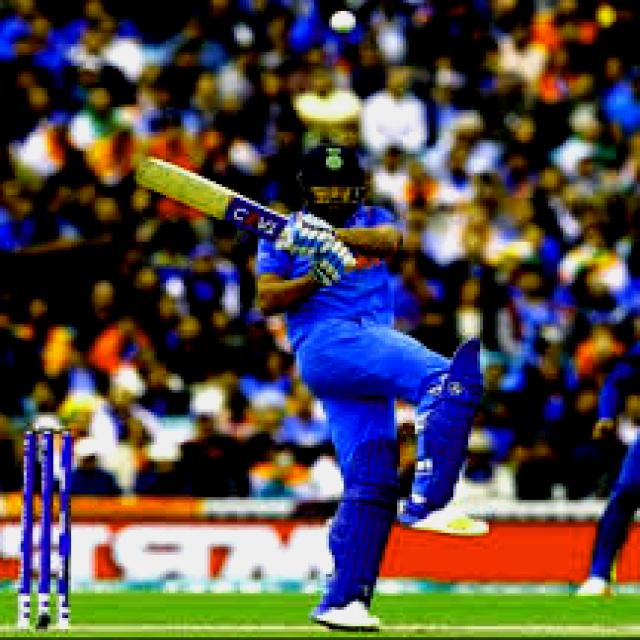toe: (126, 151, 169, 193)
